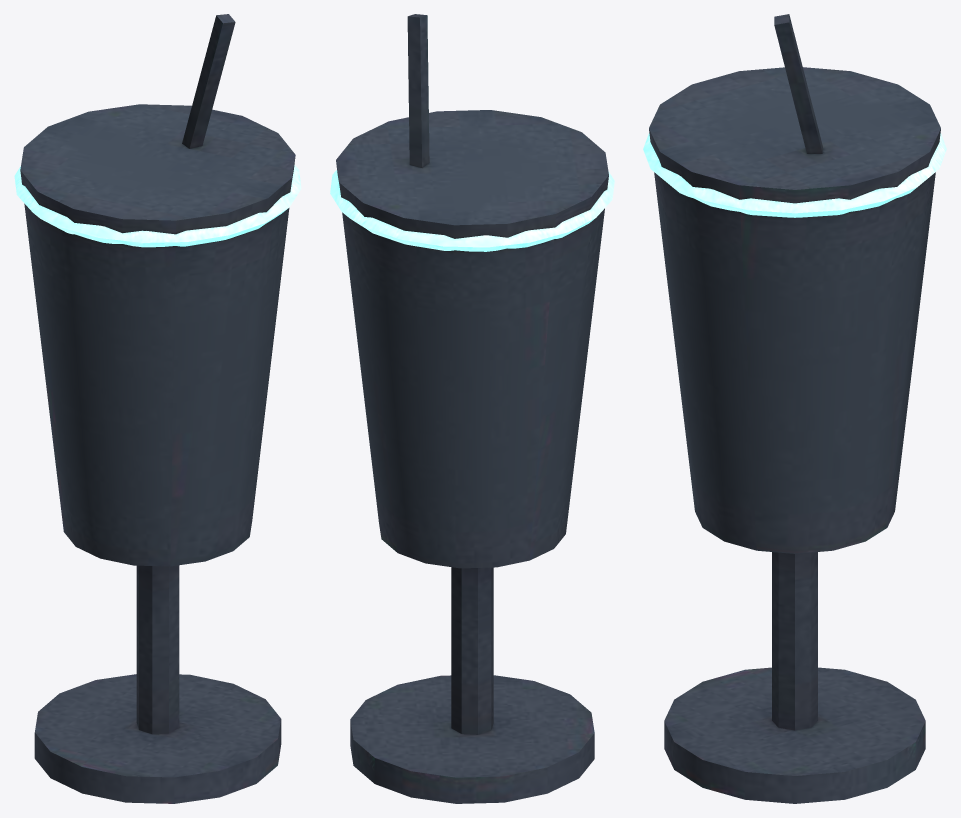
The model's file is copo_neon.glb.
3 renders of one model, left to right at view 1: azimuth 30°, elevation 25°; view 2: azimuth 150°, elevation 25°; view 3: azimuth 270°, elevation 25°, orthographic. The views are drawn at different scales.
Parts seen in each view (by area): view 1: copo_neon; view 2: copo_neon; view 3: copo_neon.
Part boxes in pixels (x1,y1,x2,y2): copo_neon: (14, 14, 301, 803); copo_neon: (330, 14, 614, 803); copo_neon: (643, 14, 946, 803).
Size of the model in its own units: 0.079 by 0.219 by 0.079.
1 material, 1 textured.
